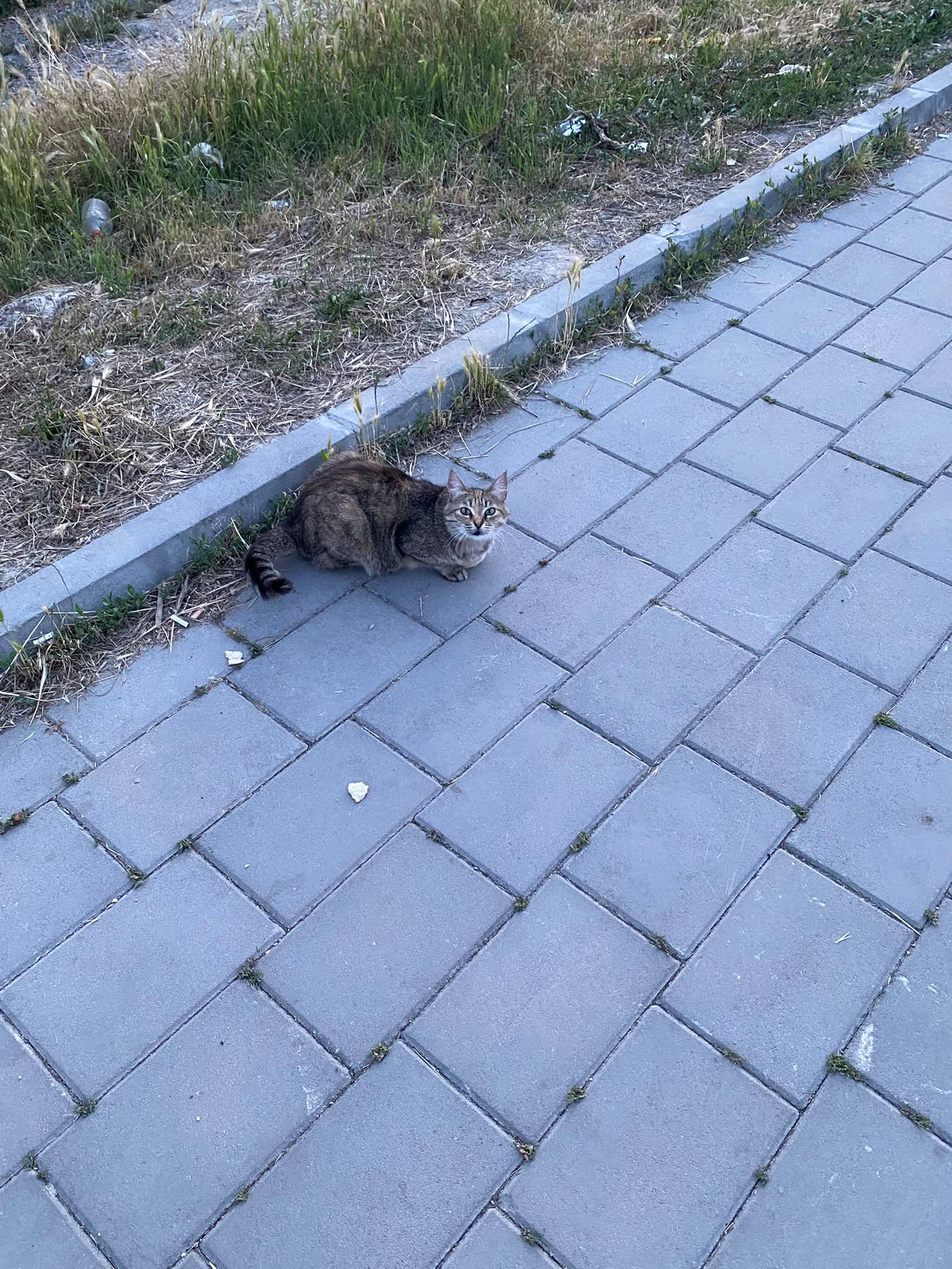macka: (243, 452, 510, 599)
